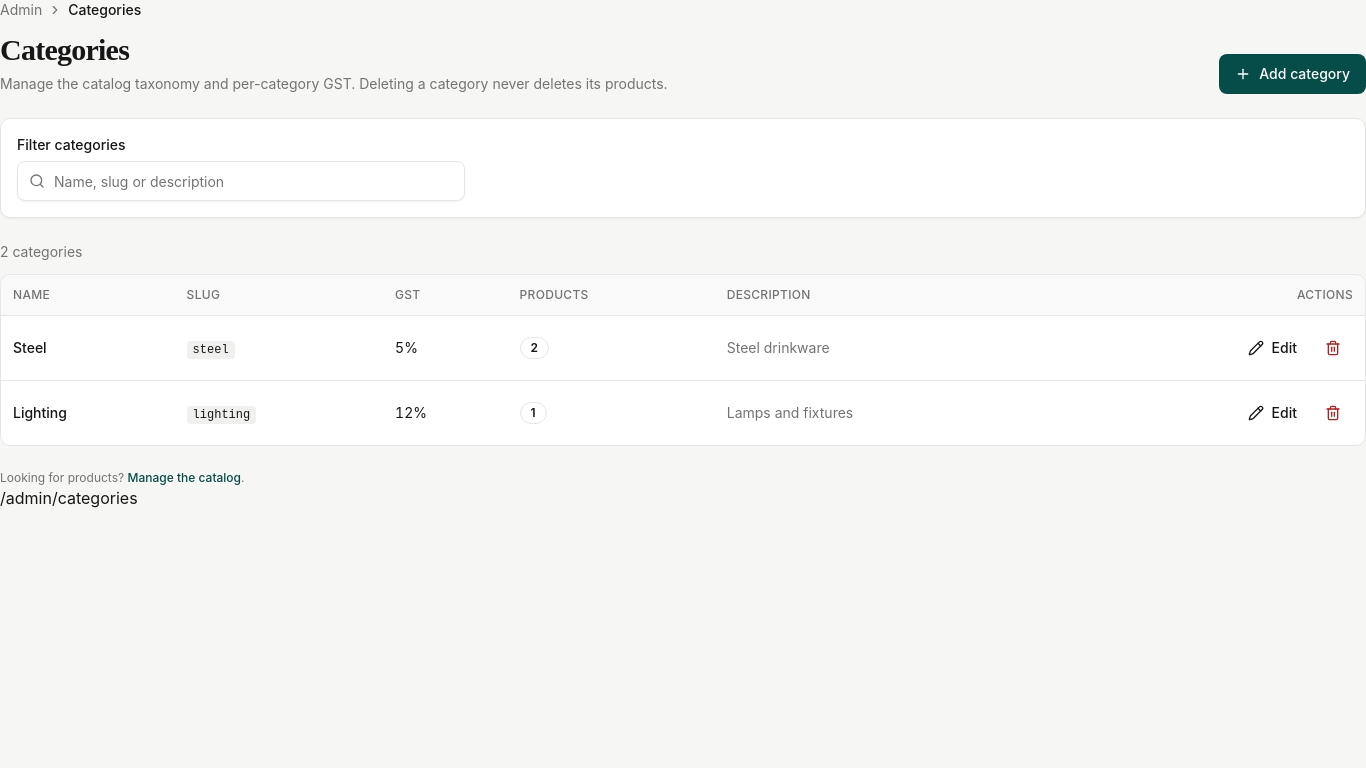
Scenario: AdminCategoriesPage › keeps the dialog open and maps a duplicate slug from the server
Click the button "Add category".
click(1293, 74)  # box [1219, 54, 1365, 94]
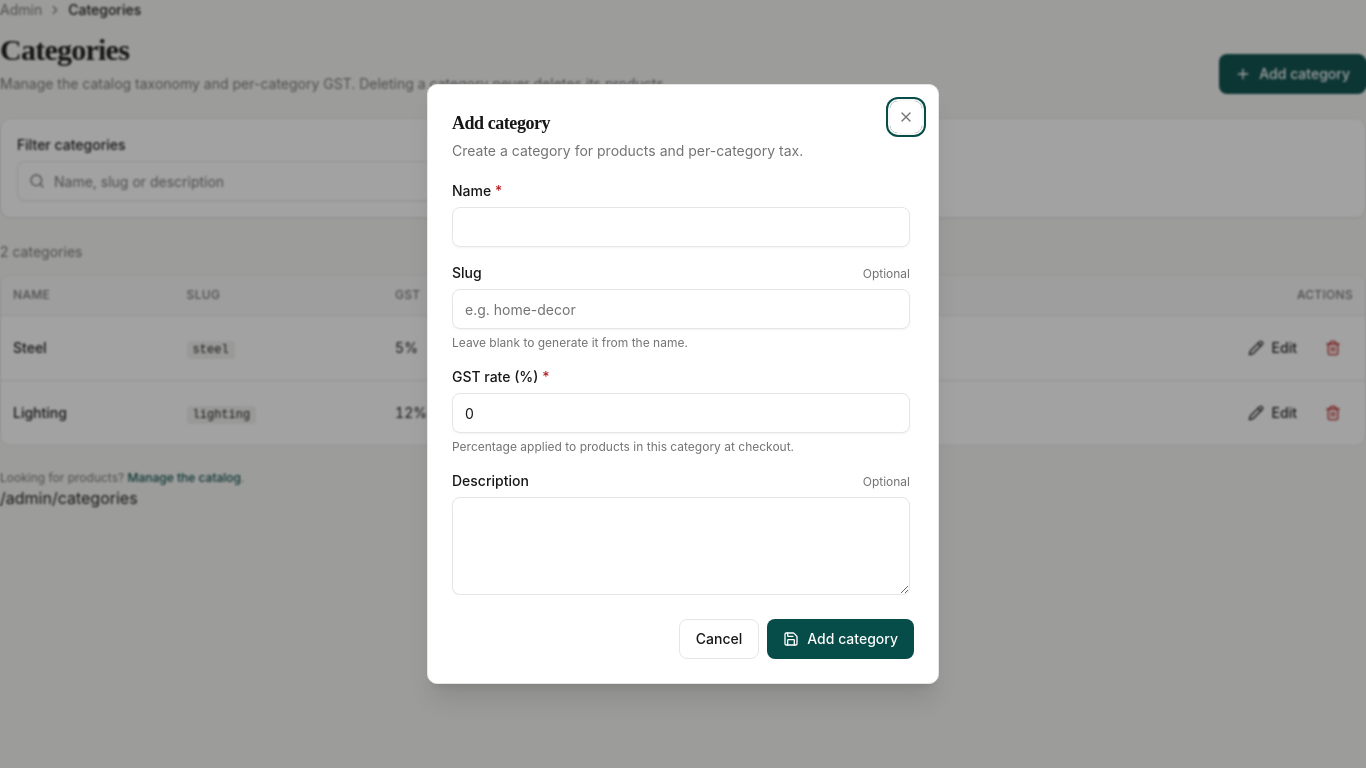
Type "Steel" into the field labelled "Name *".
click(681, 227); type("Steel")  # box [452, 207, 910, 247]
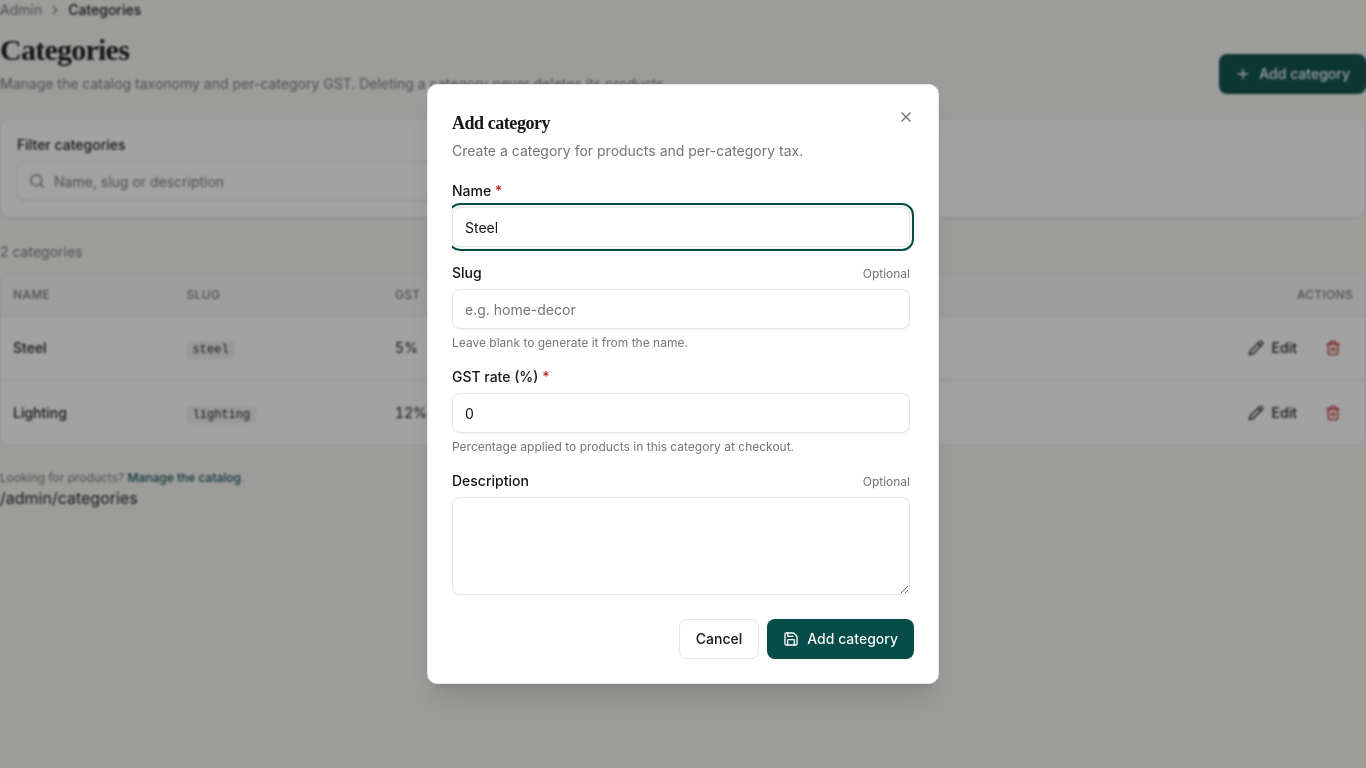
Type "steel" into the field labelled "Slug".
click(681, 309); type("steel")  # box [452, 289, 910, 329]
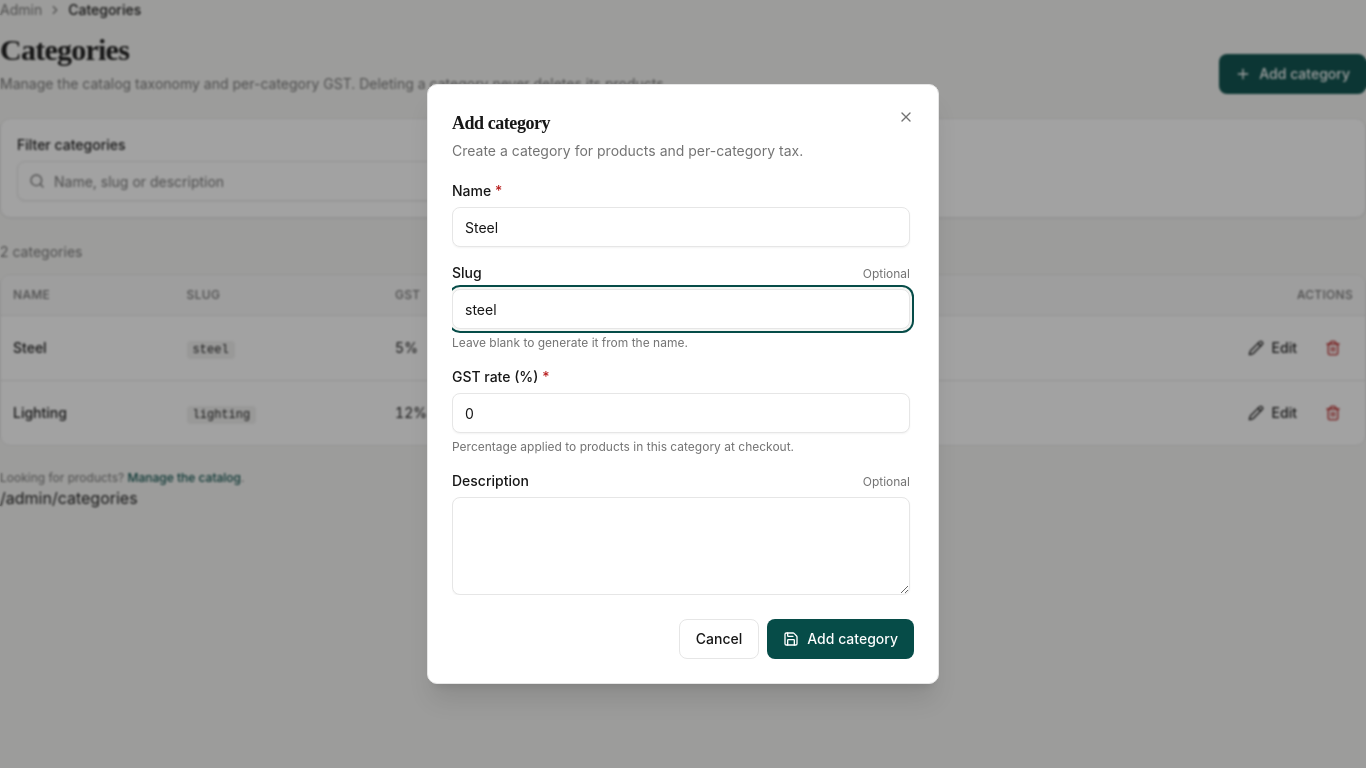
Click the button "Add category".
click(841, 639)  # box [767, 619, 914, 659]
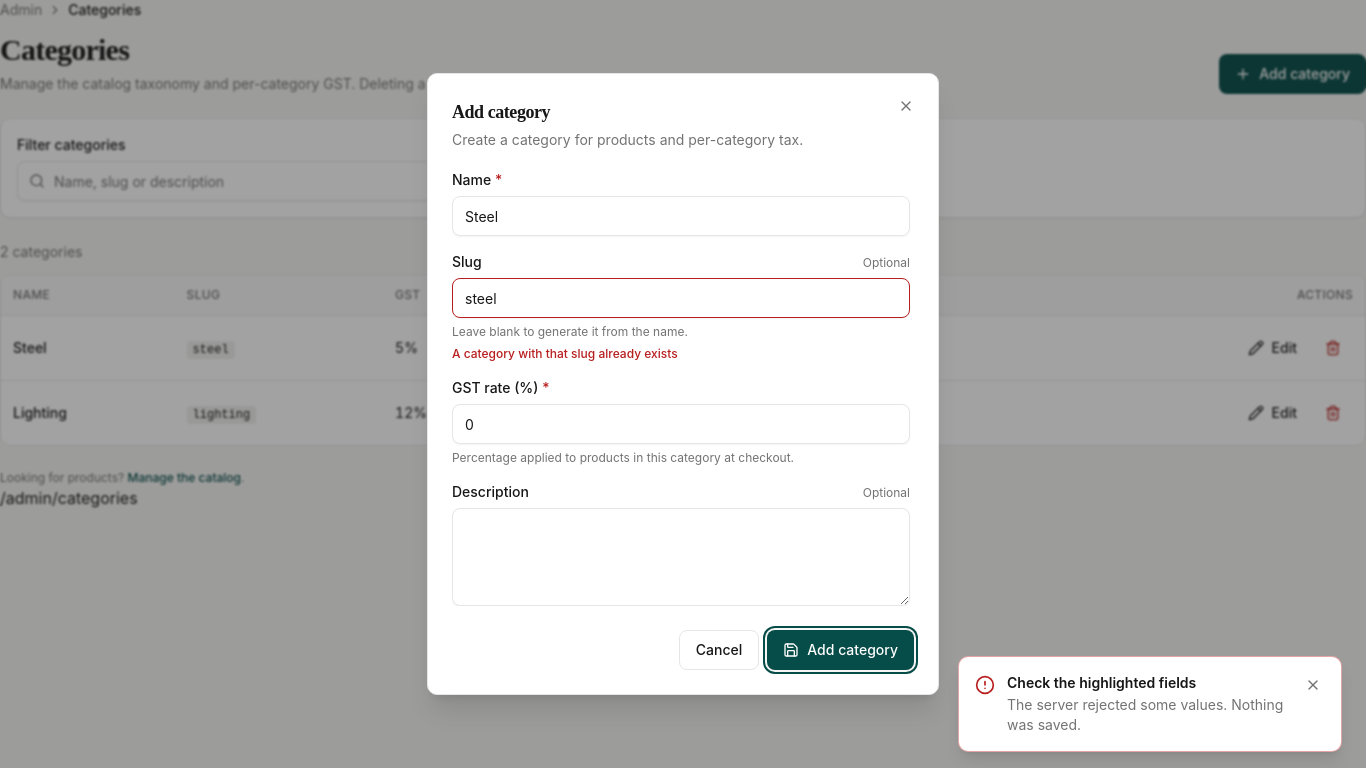
Expected: the dialog is shown, [427, 73, 939, 695]
Expected: the text "A category with that slug already exists" is shown, [452, 346, 678, 361]
